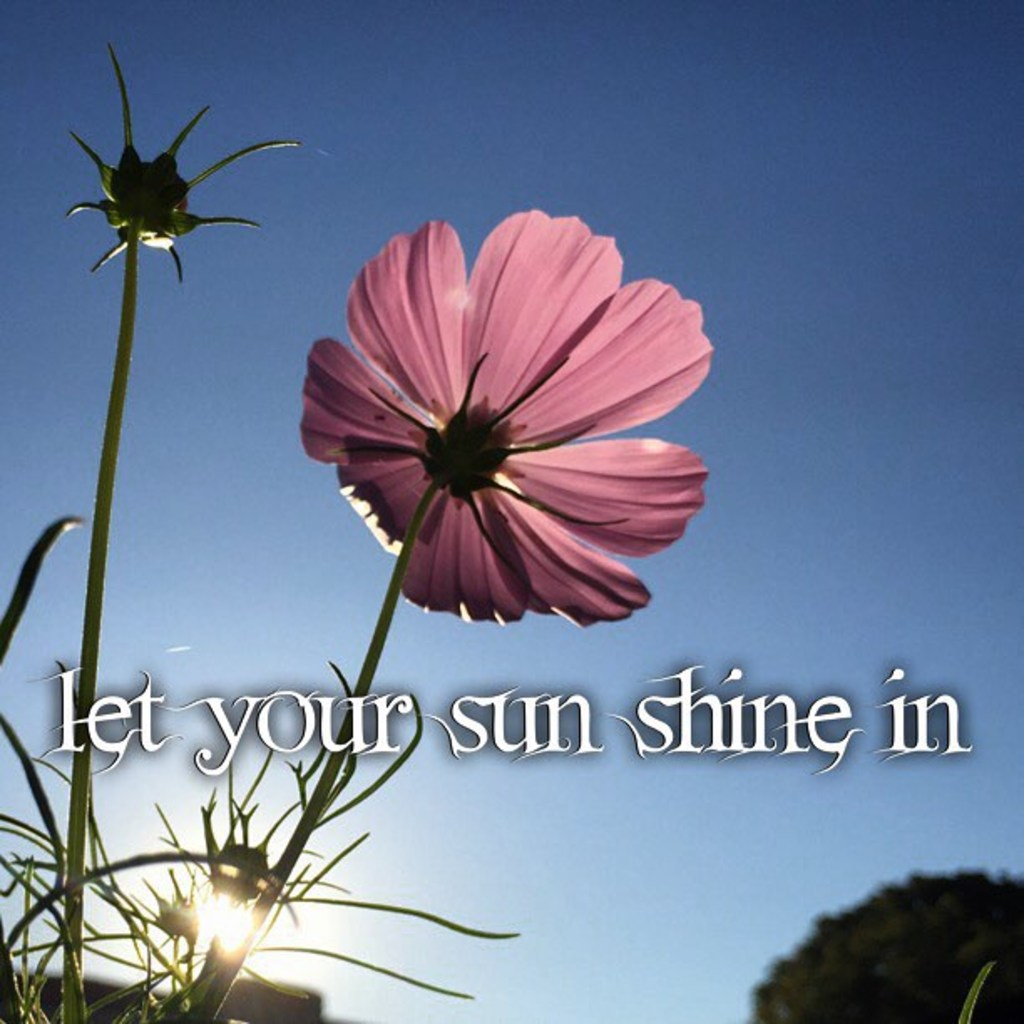Tree: (773, 866, 1018, 1024)
